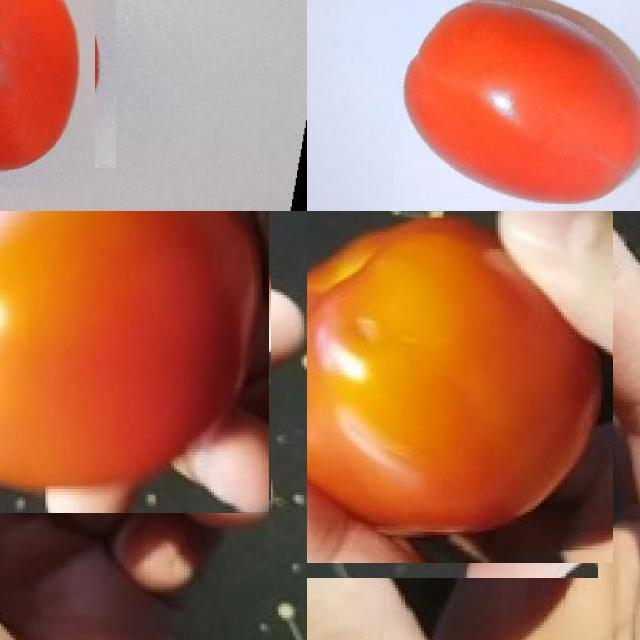Fresh Tomato: (307, 211, 605, 570), (0, 211, 269, 511), (402, 0, 640, 211), (0, 0, 105, 178)
